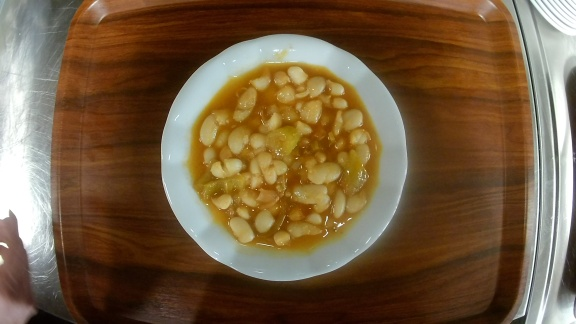kurufasulye: (160, 34, 409, 283)
